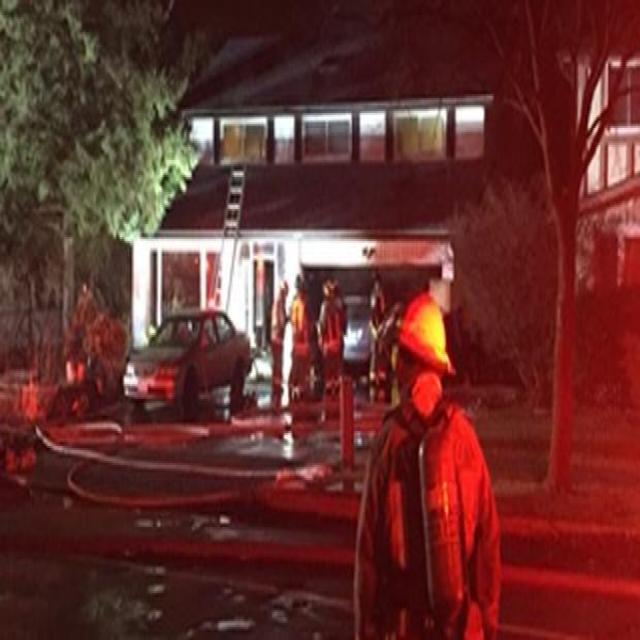other: (406, 296, 454, 374)
